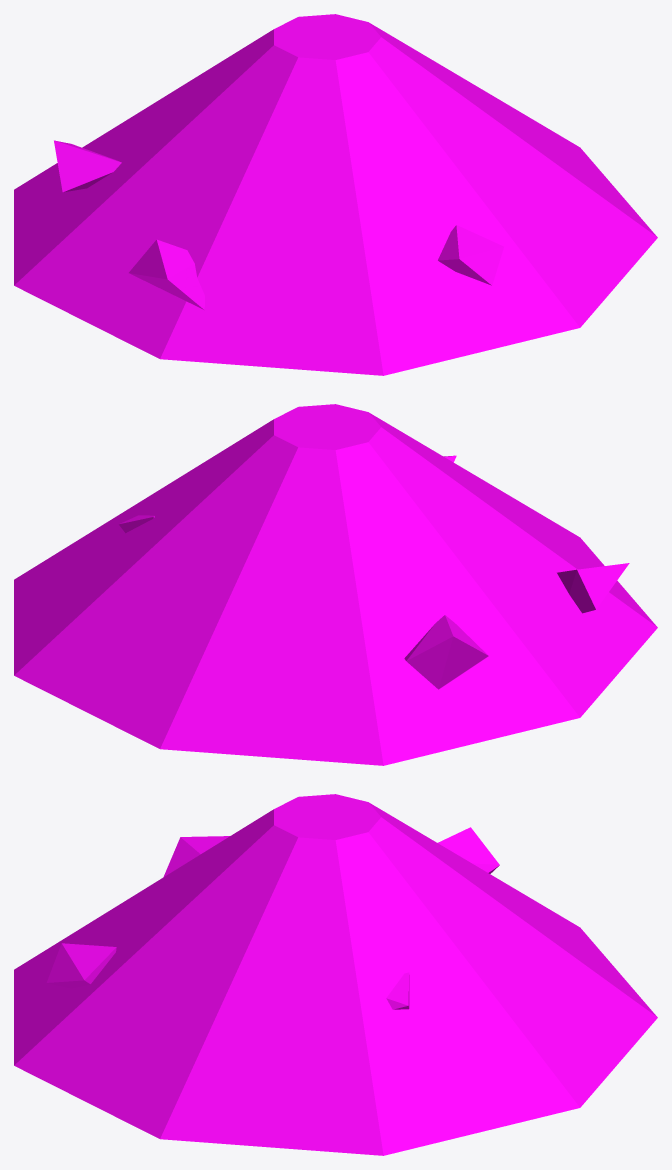
Rendered from objet_sable.glb.
The picture shows the model from 3 angles, top to bottom: view 1: azimuth 30°, elevation 25°; view 2: azimuth 150°, elevation 25°; view 3: azimuth 270°, elevation 25°; orthographic projection.
Parts seen in each view (by area): view 1: tas.002, sable_teinte.002; view 2: tas.002, sable_teinte.002; view 3: tas.002, sable_teinte.002.
Boxes of the visible parts, x1,y1,x2,y2 form: tas.002: (14,14,657,375); sable_teinte.002: (54,140,503,309); tas.002: (14,404,657,765); sable_teinte.002: (119,455,629,689); tas.002: (14,794,657,1155); sable_teinte.002: (46,827,499,1009).
Size of the model in its own units: 0.2954 by 0.1 by 0.291.
